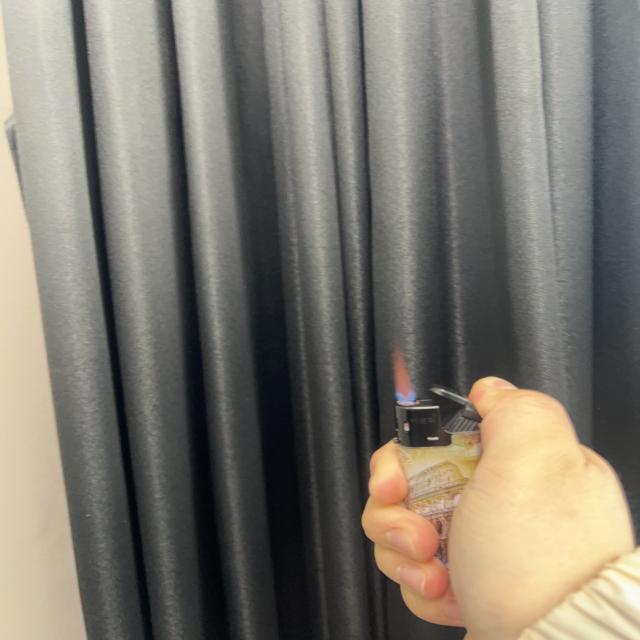fire: (392, 345, 416, 403)
